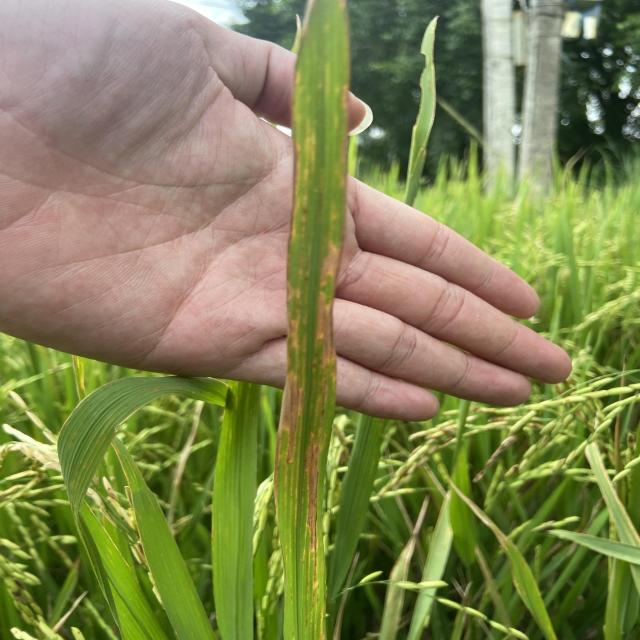Dom soc vi khuan: (301, 431, 323, 628), (308, 291, 337, 427), (319, 239, 342, 290), (319, 608, 325, 640)
